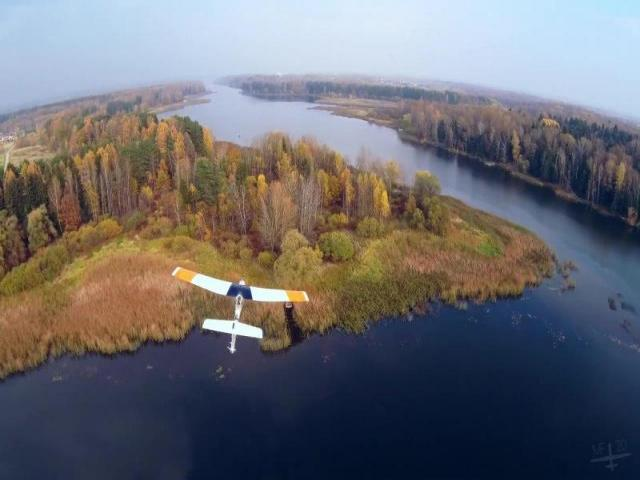hedef: (169, 260, 310, 354)
